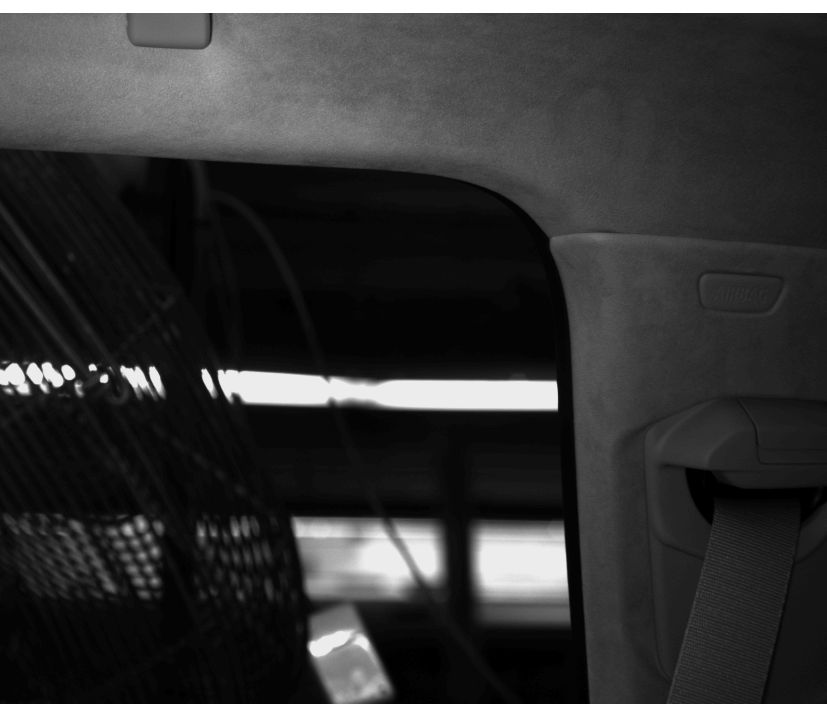camerafault: (677, 252, 805, 326)
